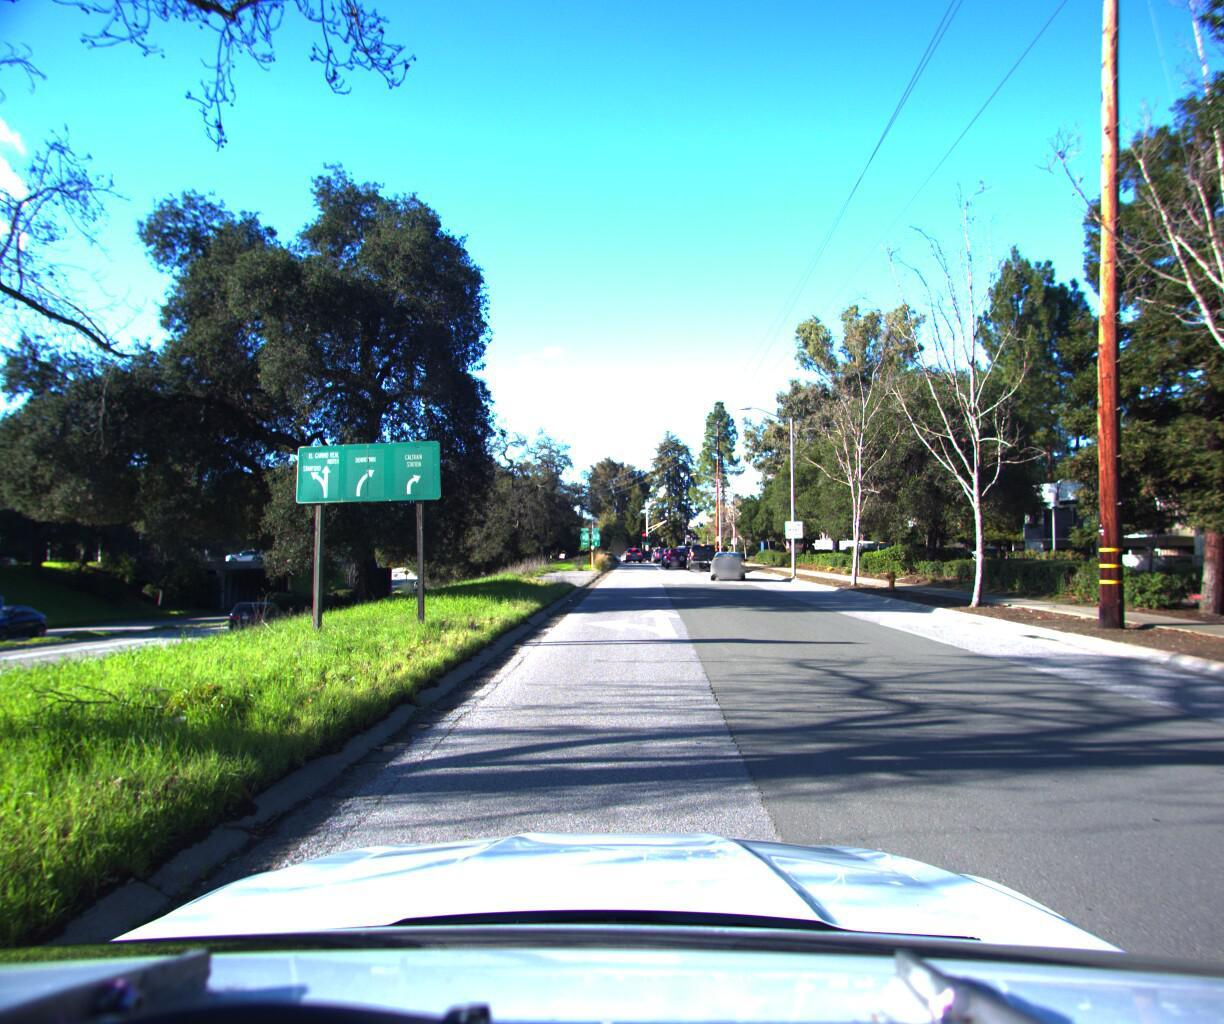car: (0, 599, 55, 645), (227, 597, 289, 637), (706, 546, 745, 577), (683, 537, 722, 566), (662, 541, 690, 564)
